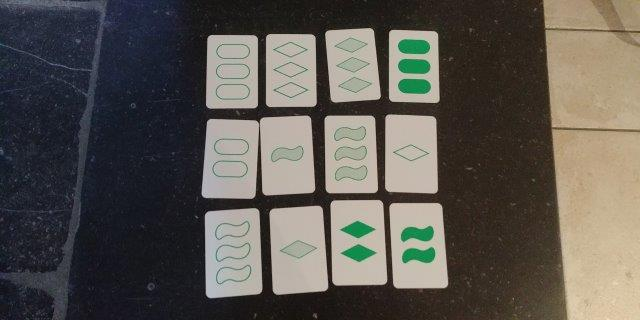1ED: (387, 117, 433, 191)
1HD: (274, 212, 321, 287)
1HW: (266, 121, 310, 192)
2EP: (209, 121, 252, 196)
2FD: (333, 204, 382, 280)
2FW: (393, 206, 441, 284)
3ED: (269, 37, 312, 104)
3EP: (210, 38, 254, 106)
3EW: (207, 214, 257, 291)
3FP: (391, 33, 434, 100)
3HD: (330, 31, 372, 97)
3HW: (326, 119, 373, 190)
